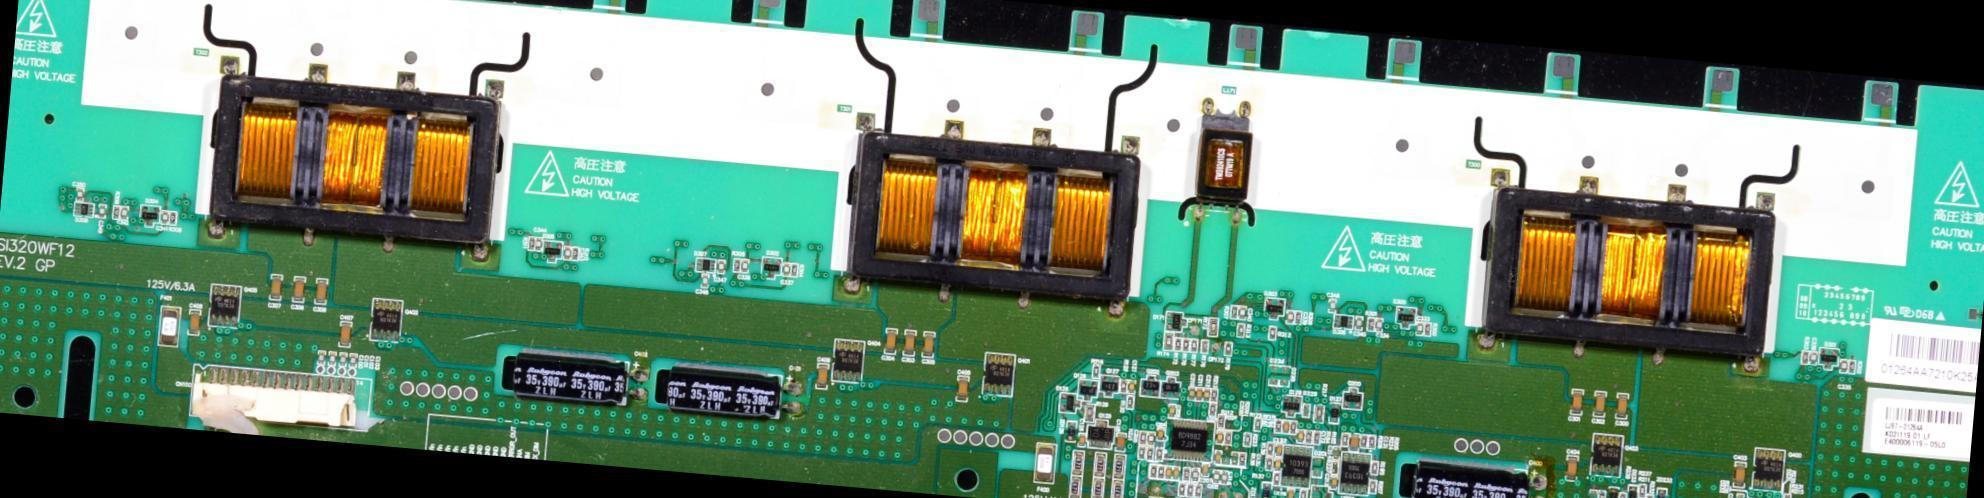Capacitor: (647, 357, 785, 423), (494, 346, 630, 409), (1391, 452, 1531, 497), (337, 318, 353, 346), (292, 275, 306, 304), (268, 274, 282, 302), (1592, 391, 1606, 419), (187, 308, 201, 336), (1615, 392, 1628, 419), (902, 329, 915, 357), (883, 329, 896, 355), (956, 375, 969, 402), (815, 363, 828, 389), (921, 331, 934, 357), (314, 279, 327, 305), (1571, 389, 1584, 414), (1564, 456, 1577, 481), (1732, 462, 1745, 487), (1114, 432, 1126, 452), (1348, 433, 1358, 452), (1076, 433, 1085, 447), (1808, 351, 1817, 366), (1415, 321, 1423, 336), (1155, 427, 1164, 442), (1282, 420, 1290, 433), (740, 258, 748, 273), (1354, 316, 1362, 331), (317, 350, 325, 365), (1213, 451, 1221, 466), (1172, 467, 1179, 481), (781, 263, 790, 276), (1296, 430, 1304, 442), (562, 246, 570, 260), (1374, 318, 1382, 333), (1840, 360, 1847, 374), (1127, 380, 1135, 394), (329, 352, 336, 365), (338, 353, 346, 367), (1168, 402, 1174, 418), (1202, 388, 1209, 401), (1195, 387, 1202, 400), (349, 354, 357, 367), (1216, 429, 1222, 444), (1330, 477, 1337, 489), (535, 237, 542, 251), (1273, 458, 1279, 472), (701, 274, 708, 286), (1328, 299, 1335, 312), (716, 260, 723, 273), (1286, 488, 1294, 497), (1275, 443, 1281, 457), (161, 211, 167, 223), (1187, 388, 1193, 400), (1166, 465, 1172, 478), (1202, 464, 1206, 475), (1735, 493, 1743, 497)
Connector: (188, 364, 359, 433)
IC: (1337, 451, 1371, 495), (1279, 443, 1311, 488)
Resistor: (1092, 452, 1107, 476), (1112, 455, 1126, 480), (1071, 451, 1082, 476), (1090, 478, 1104, 497), (1162, 331, 1174, 351), (1109, 480, 1123, 497), (1207, 317, 1219, 337), (1070, 476, 1082, 497), (1314, 404, 1323, 422), (1085, 403, 1094, 421), (1423, 321, 1432, 336), (1224, 431, 1232, 446), (1272, 472, 1280, 487), (1253, 417, 1260, 433), (1302, 404, 1311, 418), (1243, 432, 1252, 446), (791, 263, 798, 278), (168, 210, 176, 225), (1268, 325, 1276, 340), (1360, 434, 1368, 449), (1368, 479, 1375, 494), (1367, 317, 1374, 331), (1190, 338, 1197, 352), (1200, 339, 1207, 353), (1224, 342, 1231, 356), (1238, 452, 1245, 466), (1146, 447, 1154, 461), (1191, 468, 1198, 481), (1178, 482, 1185, 495), (1274, 419, 1280, 433), (1368, 435, 1375, 448), (1155, 448, 1162, 462), (1221, 471, 1228, 484), (1182, 468, 1189, 480), (733, 259, 739, 273), (1312, 430, 1318, 444), (1639, 484, 1645, 498), (1370, 460, 1377, 474), (1264, 458, 1271, 471), (1213, 470, 1220, 484), (1185, 483, 1192, 497), (527, 237, 534, 249), (1210, 389, 1217, 401), (1138, 432, 1145, 444), (1330, 461, 1337, 473), (1157, 466, 1164, 478), (571, 247, 577, 259), (1120, 380, 1126, 393), (1126, 396, 1133, 408), (1217, 414, 1223, 427), (1138, 446, 1144, 459), (1150, 465, 1156, 478), (1194, 485, 1201, 498), (1147, 433, 1154, 444), (1092, 366, 1098, 378), (1848, 361, 1854, 375), (1183, 337, 1188, 351), (1266, 442, 1272, 456), (1801, 351, 1806, 364), (1174, 340, 1181, 350), (1290, 421, 1296, 434), (1341, 433, 1346, 446), (1304, 430, 1310, 442), (1237, 323, 1243, 335), (1208, 403, 1214, 415), (1299, 489, 1307, 497), (1596, 490, 1605, 497), (1617, 492, 1625, 497), (1782, 494, 1790, 497), (1645, 494, 1653, 497)
Transistor: (207, 283, 243, 329), (367, 298, 402, 344), (830, 339, 864, 385), (981, 353, 1015, 397), (1590, 433, 1622, 476), (1752, 451, 1784, 491)
